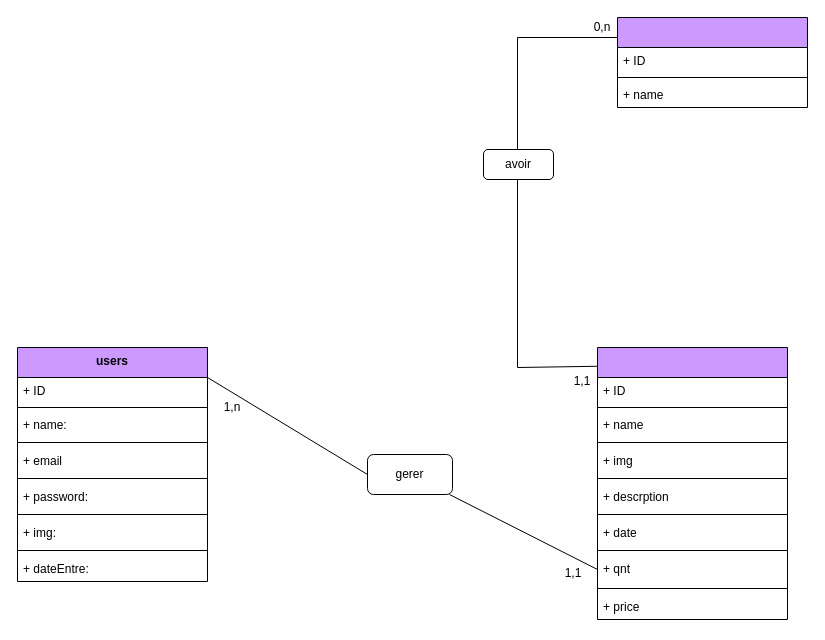
Image size: 825x640. Some labels were removed from this diagram. Here are the shapes that lost their labels. From the top down, the box of each, then its label:
(616, 16, 808, 108): familles
(596, 346, 788, 620): insruments
